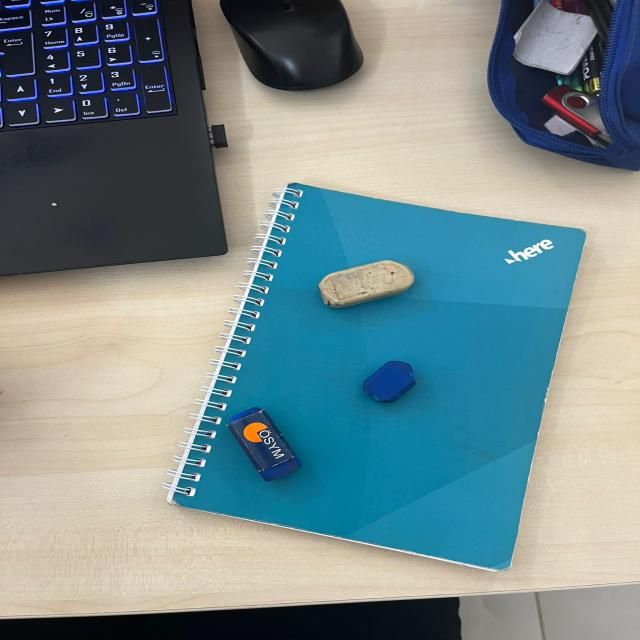eraser: (214, 399, 313, 495), (312, 252, 424, 314), (352, 354, 428, 411)
